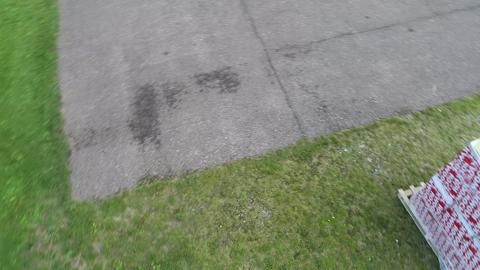RockwoolPallet: (409, 137, 479, 270)
